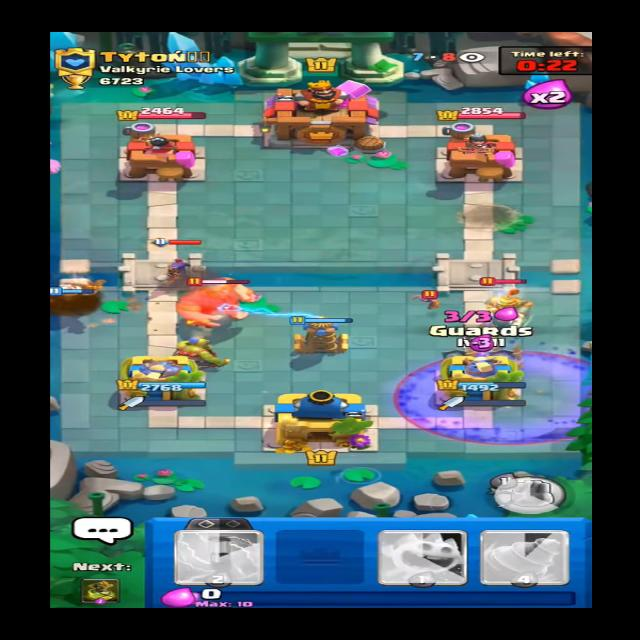Bat: (411, 285, 444, 308)
Evowizard: (139, 240, 212, 285)
Giant: (176, 278, 277, 324)
Graveyard: (396, 349, 602, 444)
Prince: (478, 274, 540, 328)
